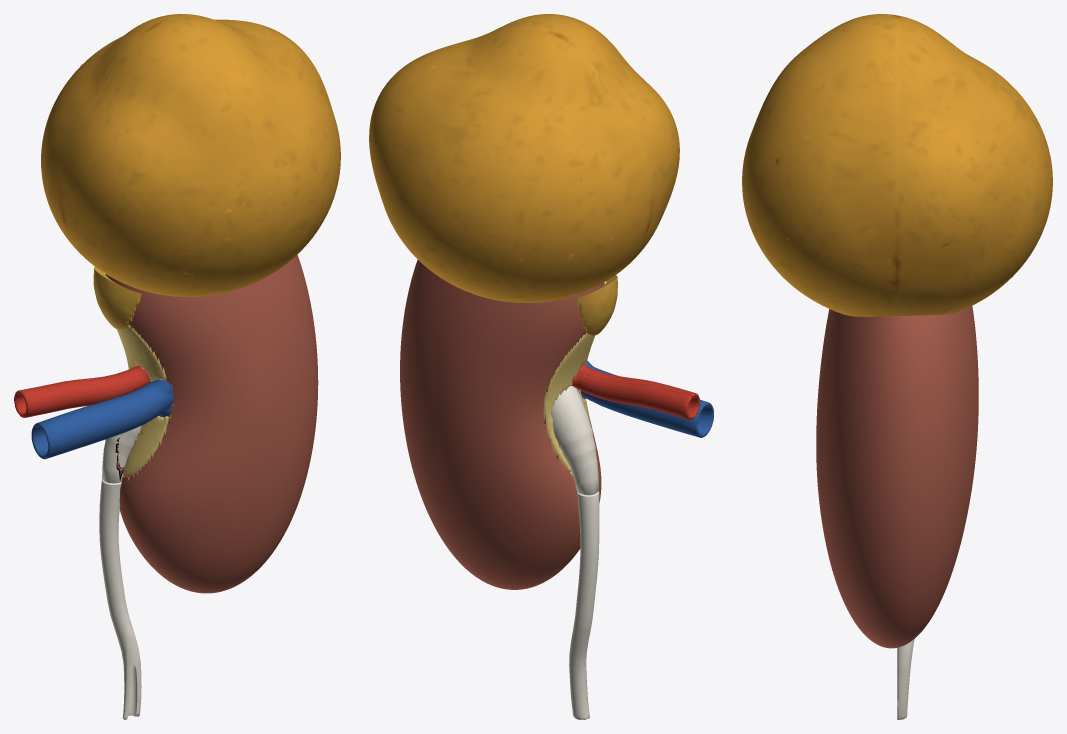
Rendered from kidney_t3b_coronal.glb.
The picture shows the model from 3 angles, left to right: view 1: azimuth 30°, elevation 25°; view 2: azimuth 150°, elevation 25°; view 3: azimuth 270°, elevation 25°; orthographic projection. The views are drawn at different scales.
Visible parts, largest first — view 1: anterior_half, tumor, ureter, renal_pelvis; view 2: tumor, renal_cortex, anterior_half, ureter, renal_pelvis, renal_artery, renal_sinus, adrenal_gland; view 3: anterior_half, tumor, renal_cortex, ureter.
Part boxes in pixels (x1,y1,x2,y2): anterior_half: (19,15,340,593); tumor: (41,14,308,264); ureter: (99,479,141,719); renal_pelvis: (102,434,124,483); tumor: (369,27,652,303); renal_cortex: (400,259,599,589); anterior_half: (441,14,713,582); ureter: (569,491,599,719); renal_pelvis: (551,386,598,495); renal_artery: (570,371,692,419); renal_sinus: (543,333,591,475); adrenal_gland: (575,281,614,336); anterior_half: (742,14,897,648); tumor: (897,15,1052,315); renal_cortex: (897,306,978,647); ureter: (897,639,914,719).
Size of the model in its own units: 8.25 by 17.79 by 7.
Materials: 1 (1 with a texture image).
